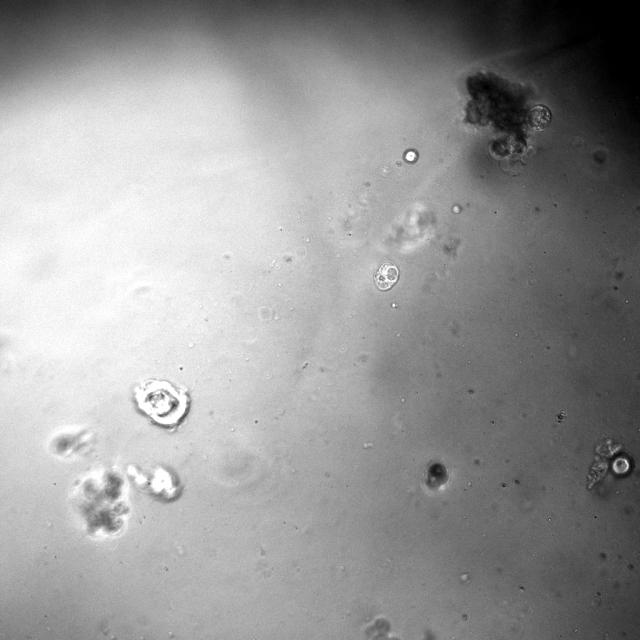organoid: (72, 464, 182, 539), (464, 71, 552, 158), (134, 378, 189, 428), (587, 438, 634, 490), (47, 425, 95, 461), (422, 460, 449, 493), (365, 616, 397, 639), (374, 262, 399, 291), (402, 148, 419, 164)
